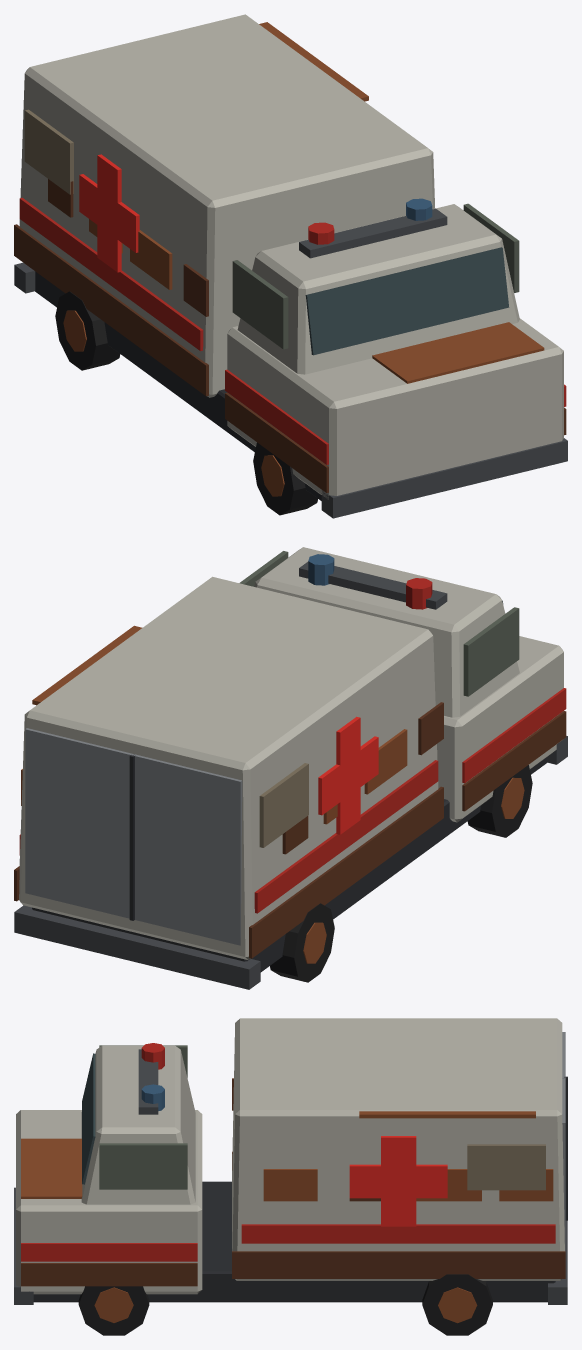
File: lmk_hospital_ambulance.fbx
3 views of the same model, one above another, from view 1: azimuth 30°, elevation 25°; view 2: azimuth 150°, elevation 25°; view 3: azimuth 270°, elevation 25° (orthographic). The views are drawn at different scales.
Visible parts, largest first — view 1: lmk_hospital_ambulance; view 2: lmk_hospital_ambulance; view 3: lmk_hospital_ambulance.
Boxes of the visible parts, <box> form: lmk_hospital_ambulance: <box>14,14,567,518</box>; lmk_hospital_ambulance: <box>14,547,567,989</box>; lmk_hospital_ambulance: <box>14,1018,567,1335</box>.
Bounding box in the file's own units: 2.48 × 2.48 × 5.64.
